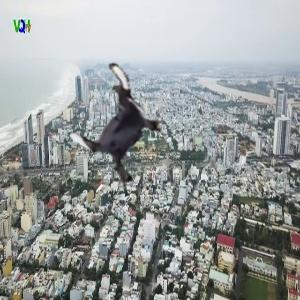drone: (65, 72, 177, 184)
